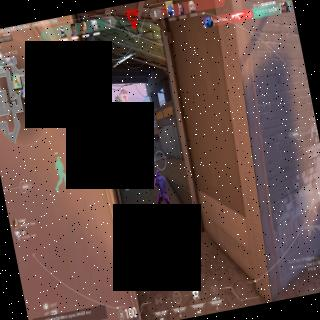ENEMY-BODY: (147, 166, 176, 224)
ENEMY-HEAD: (154, 168, 162, 179)
